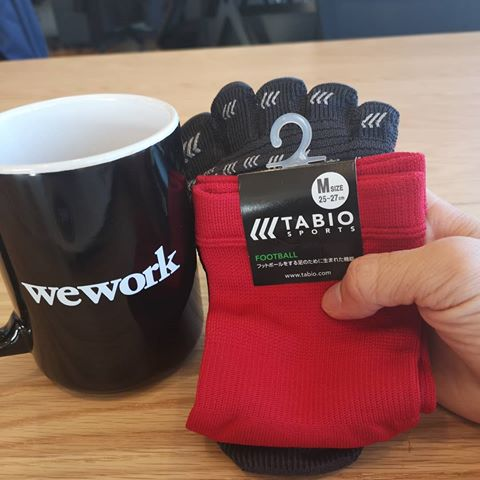wework: (18, 243, 183, 308)
